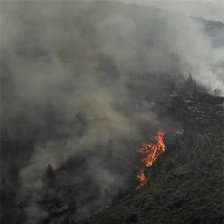fire: (129, 122, 180, 192)
smoke: (6, 7, 205, 116), (1, 121, 121, 218)
